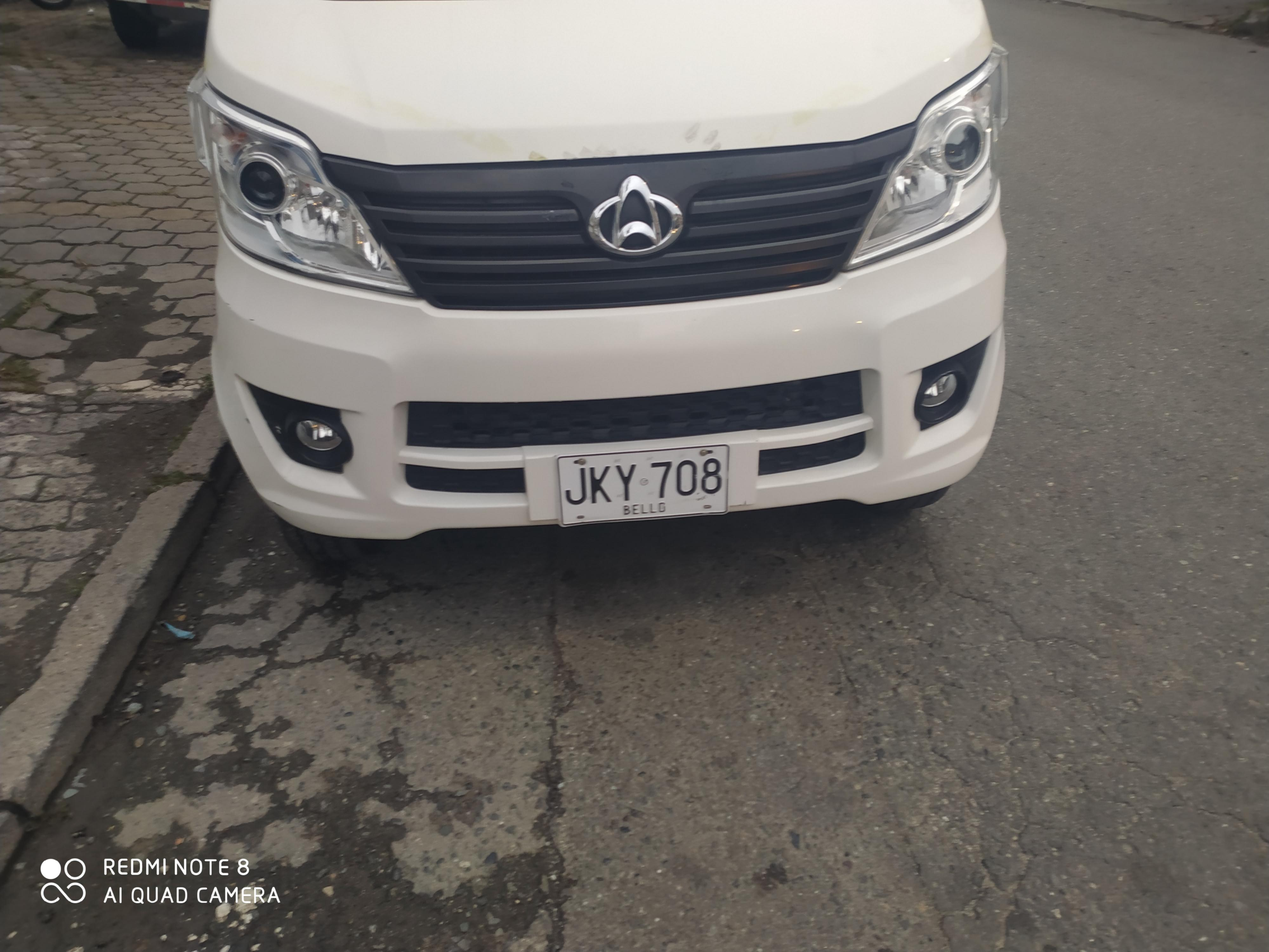placa: (551, 439, 744, 534)
